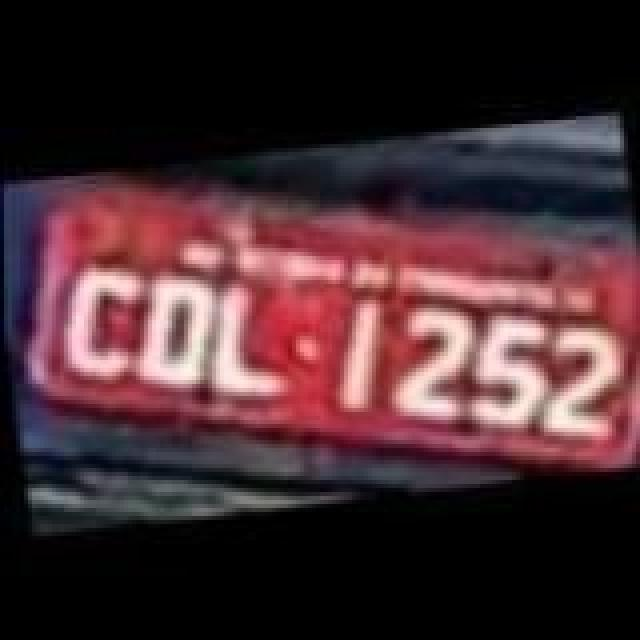1: (312, 288, 400, 420)
2: (528, 320, 636, 448), (378, 292, 478, 428)
5: (458, 306, 566, 434)
C: (46, 250, 154, 382)
D: (118, 264, 226, 396)
L: (186, 276, 294, 412)
